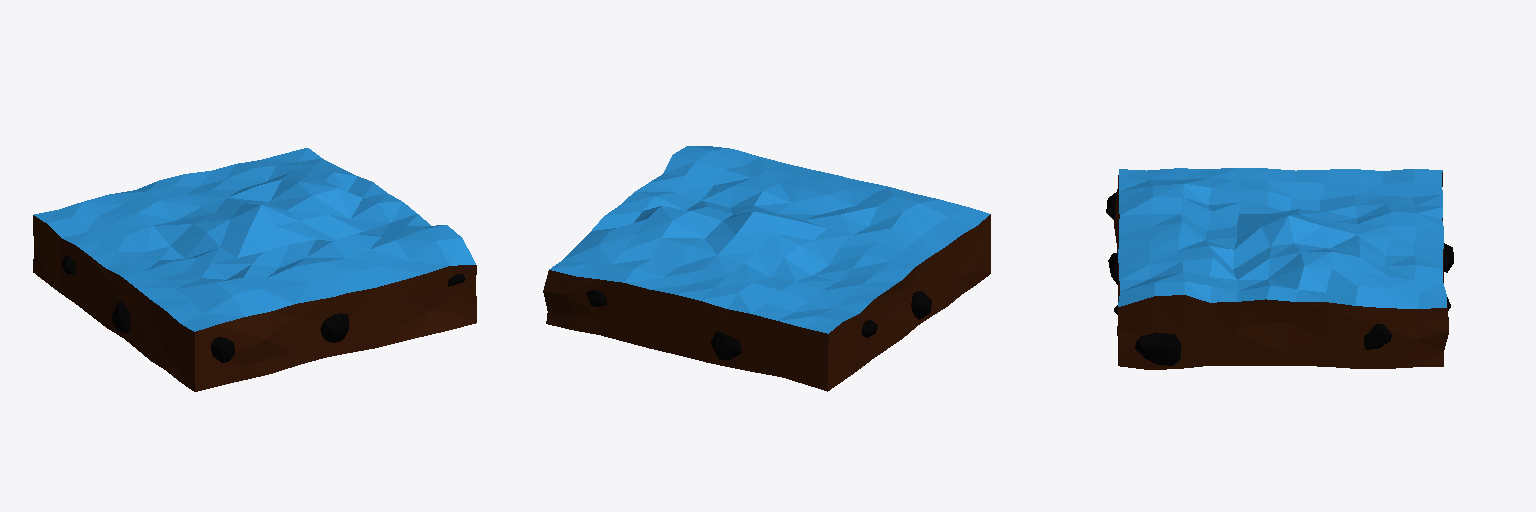
Rendered from water_preview.obj.
3 renders of one model, left to right at view 1: azimuth 30°, elevation 25°; view 2: azimuth 150°, elevation 25°; view 3: azimuth 270°, elevation 25°, orthographic.
Parts seen in each view (by area): view 1: Cube_Cube.006, Icosphere; view 2: Cube_Cube.006, Icosphere.005; view 3: Cube_Cube.006, Icosphere.007.
Part boxes in pixels (x1,y1,x2,y2): Cube_Cube.006: (33,148,476,391); Icosphere: (320,313,349,342); Cube_Cube.006: (543,146,990,391); Icosphere.005: (710,331,741,359); Cube_Cube.006: (1114,168,1448,369); Icosphere.007: (1135,332,1181,365).
Bounding box in the file's own units: 6.51 × 1.85 × 6.43.